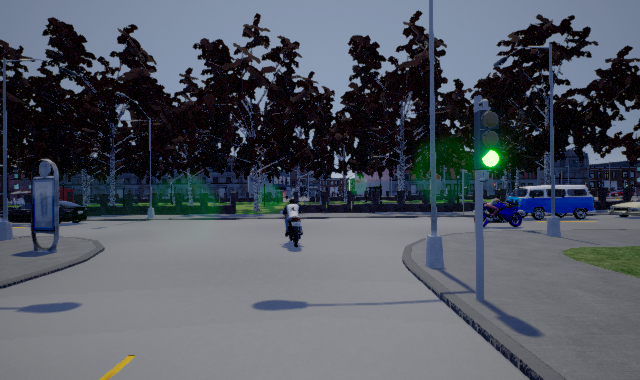motobike: (281, 198, 306, 248), (483, 195, 519, 228)
traffic_light: (474, 107, 500, 171)
vehicle: (511, 184, 596, 220), (8, 198, 88, 223), (608, 199, 640, 217)
